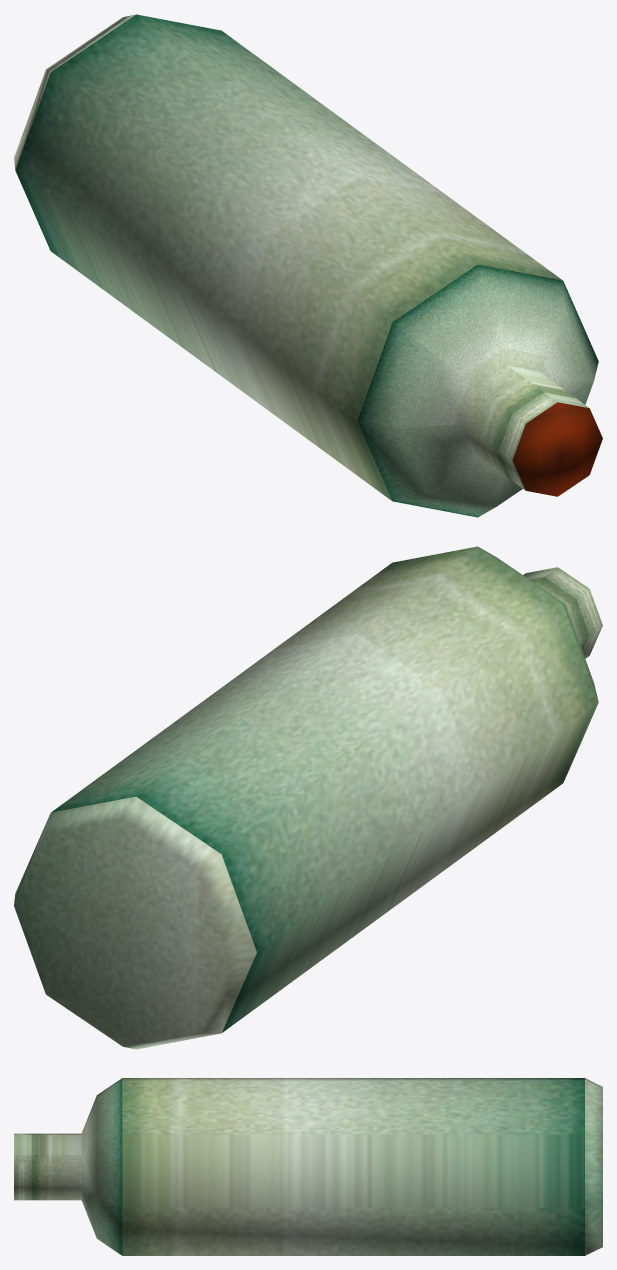
File: ItFo_Water.fbx
The picture shows the model from 3 angles, top to bottom: view 1: azimuth 30°, elevation 25°; view 2: azimuth 150°, elevation 25°; view 3: azimuth 270°, elevation 25°; orthographic projection. The views are drawn at different scales.
Parts seen in each view (by area): view 1: 3DSMesh_0; view 2: 3DSMesh_0; view 3: 3DSMesh_0.
Boxes of the visible parts, <box> form: 3DSMesh_0: <box>14,14,602,517</box>; 3DSMesh_0: <box>14,546,602,1049</box>; 3DSMesh_0: <box>14,1078,602,1255</box>.
Bounding box in the file's own units: 11 × 11 × 34.25.
